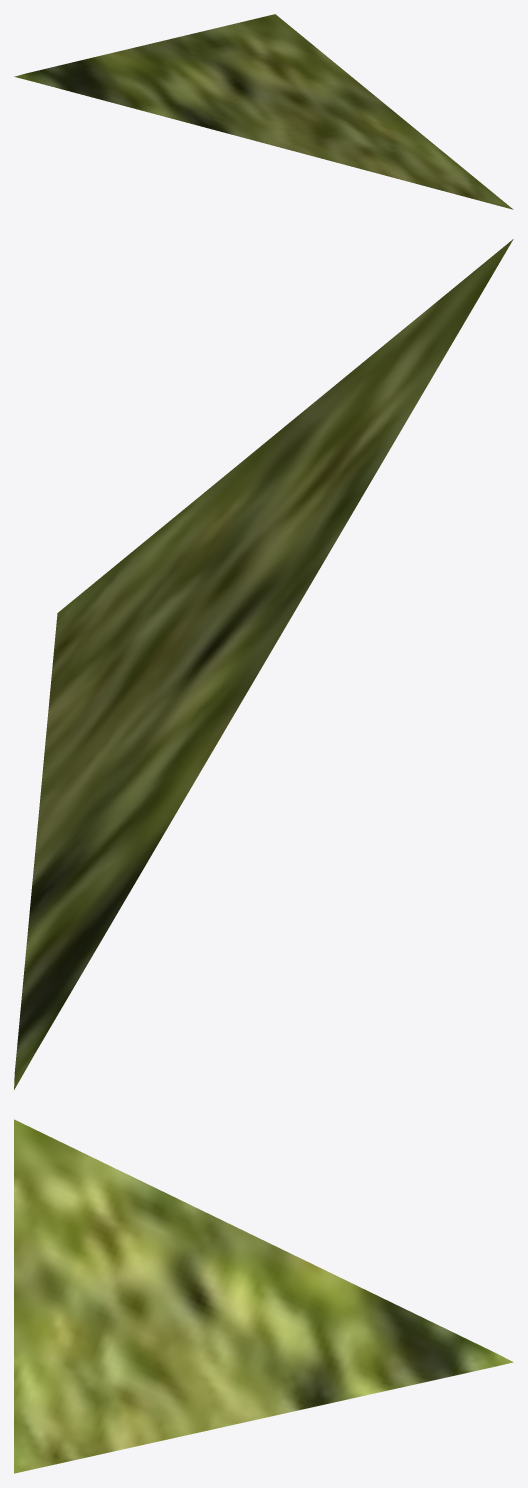
3 views of the same model, one above another, from view 1: azimuth 30°, elevation 25°; view 2: azimuth 150°, elevation 25°; view 3: azimuth 270°, elevation 25° (orthographic). The views are drawn at different scales.
Bounding box in the file's own units: 0.4043 × 0.4113 × 0.767.
1 material, 1 textured.
